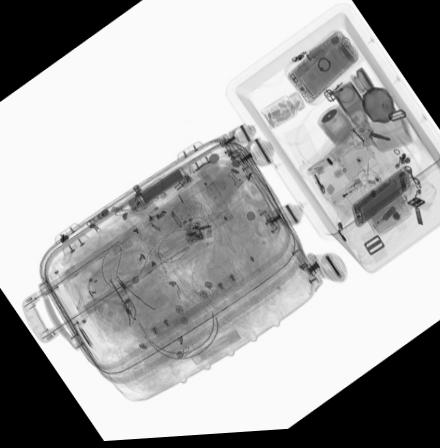Lighter: (327, 181, 363, 211)
